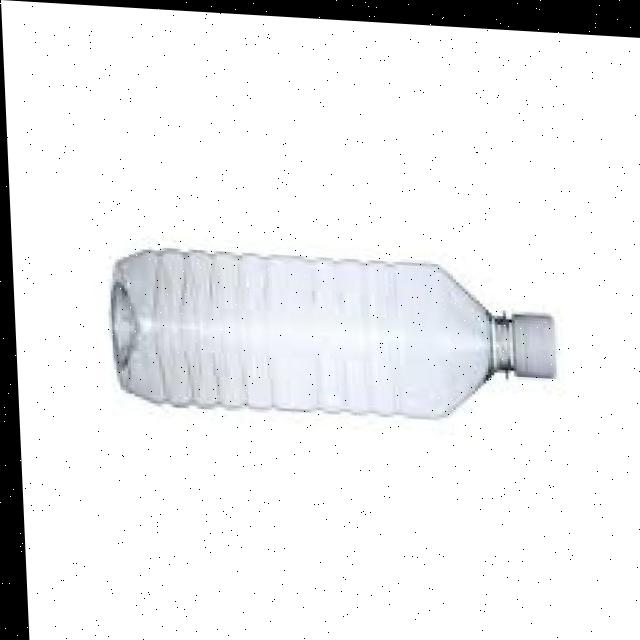bottle: (65, 193, 583, 477)
